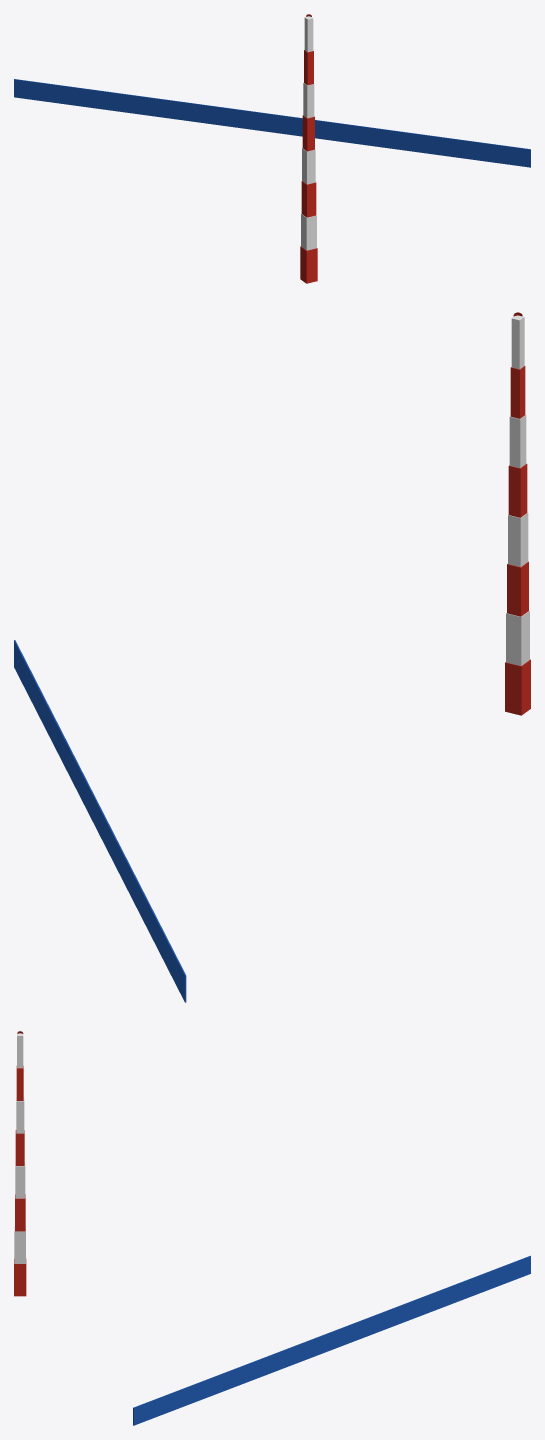
Rendered from balashi_fence.glb.
3 renders of one model, top to bottom at view 1: azimuth 30°, elevation 25°; view 2: azimuth 150°, elevation 25°; view 3: azimuth 270°, elevation 25°, orthographic. The views are drawn at different scales.
Parts seen in each view (by area): view 1: balashi_fence_lod0; view 2: balashi_fence_lod0; view 3: balashi_fence_lod0.
Part boxes in pixels (x1,y1,x2,y2): balashi_fence_lod0: (14,14,530,283); balashi_fence_lod0: (14,312,530,1002); balashi_fence_lod0: (14,1031,530,1425).
Size of what is drawn, in the model's own units: 40.34 by 32.4 by 57.87.
